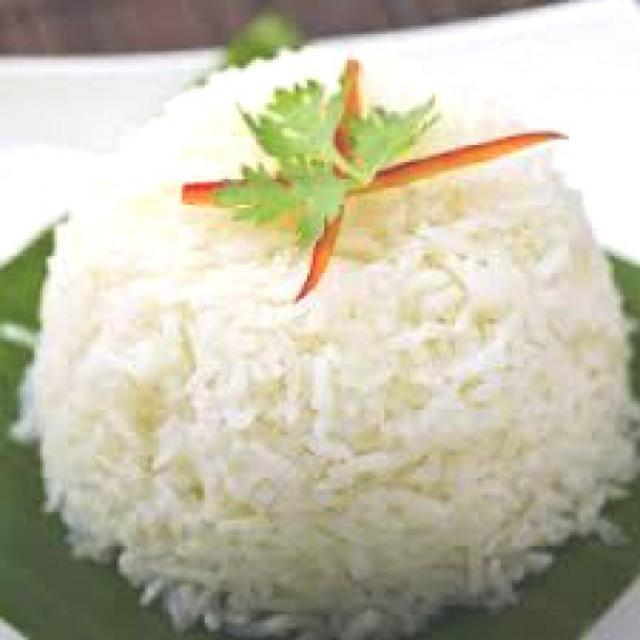rice: (20, 57, 637, 638)
